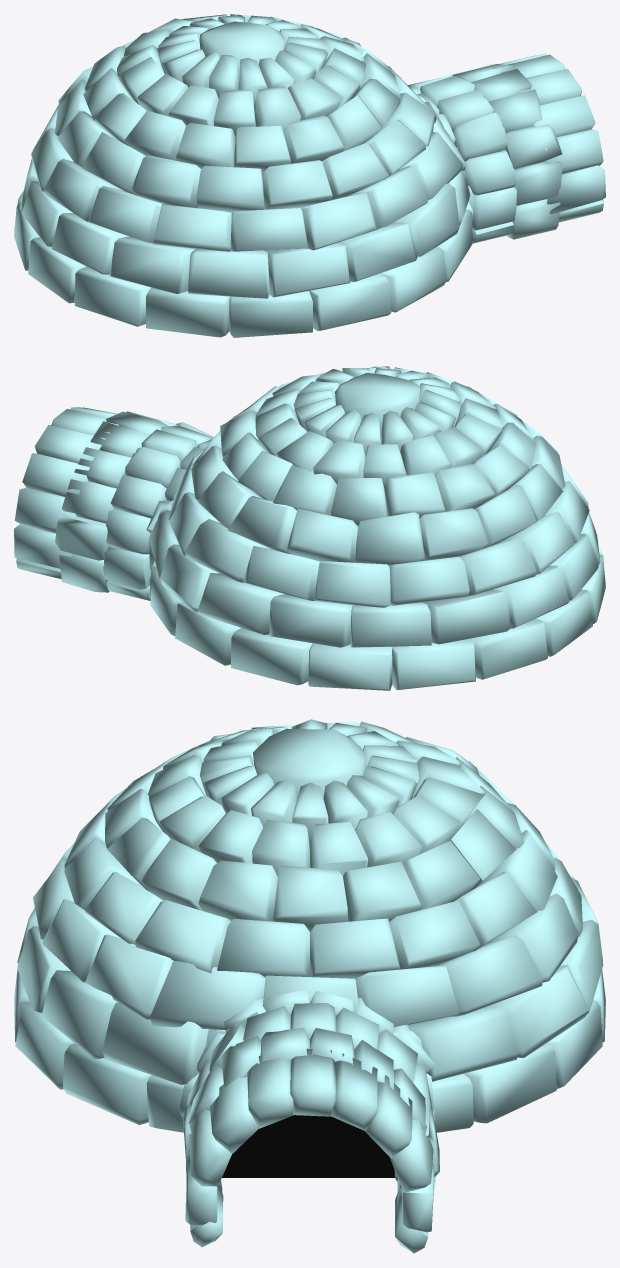
Rendered from igloo.fbx.
The picture shows the model from 3 angles, top to bottom: view 1: azimuth 30°, elevation 25°; view 2: azimuth 150°, elevation 25°; view 3: azimuth 270°, elevation 25°; orthographic projection. The views are drawn at different scales.
Parts seen in each view (by area): view 1: igloo; view 2: igloo; view 3: igloo.
Part boxes in pixels (box(x1,y1,x2,y2)): igloo: box(14, 14, 605, 337); igloo: box(14, 366, 605, 690); igloo: box(14, 719, 605, 1253).
Size of the model in its own units: 1562 by 669 by 1181.
